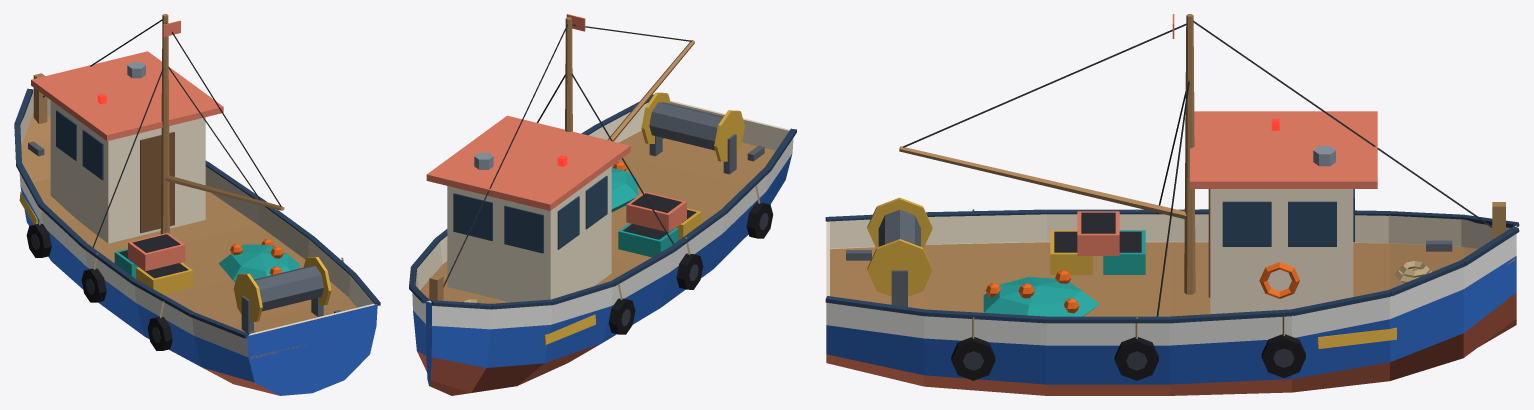
The model's file is fishing_boat_static.glb.
3 renders of one model, left to right at view 1: azimuth 30°, elevation 25°; view 2: azimuth 150°, elevation 25°; view 3: azimuth 270°, elevation 25°, orthographic. The views are drawn at different scales.
Visible parts, largest first — view 1: Boat; view 2: Boat; view 3: Boat.
Part boxes in pixels (<box>): Boat: <box>14,14,380,395</box>; Boat: <box>409,14,796,395</box>; Boat: <box>825,14,1519,395</box>.
Size of the model in its own units: 3.38 by 4.9 by 8.5.
